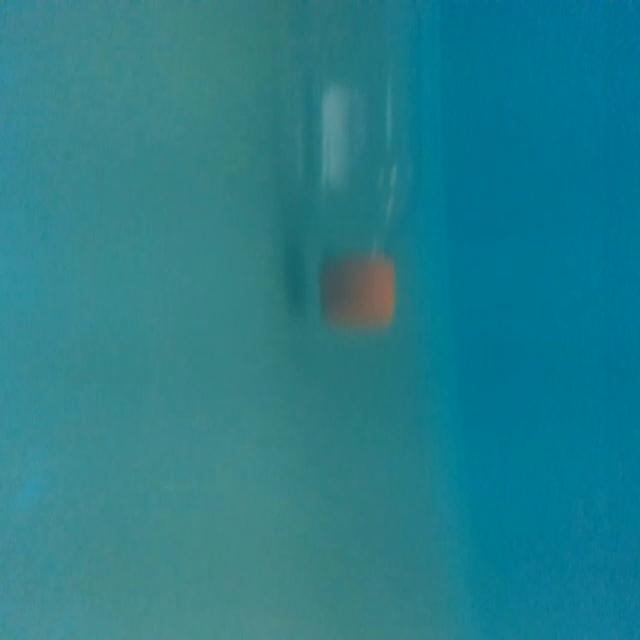plastic bottle: (281, 16, 428, 338)
